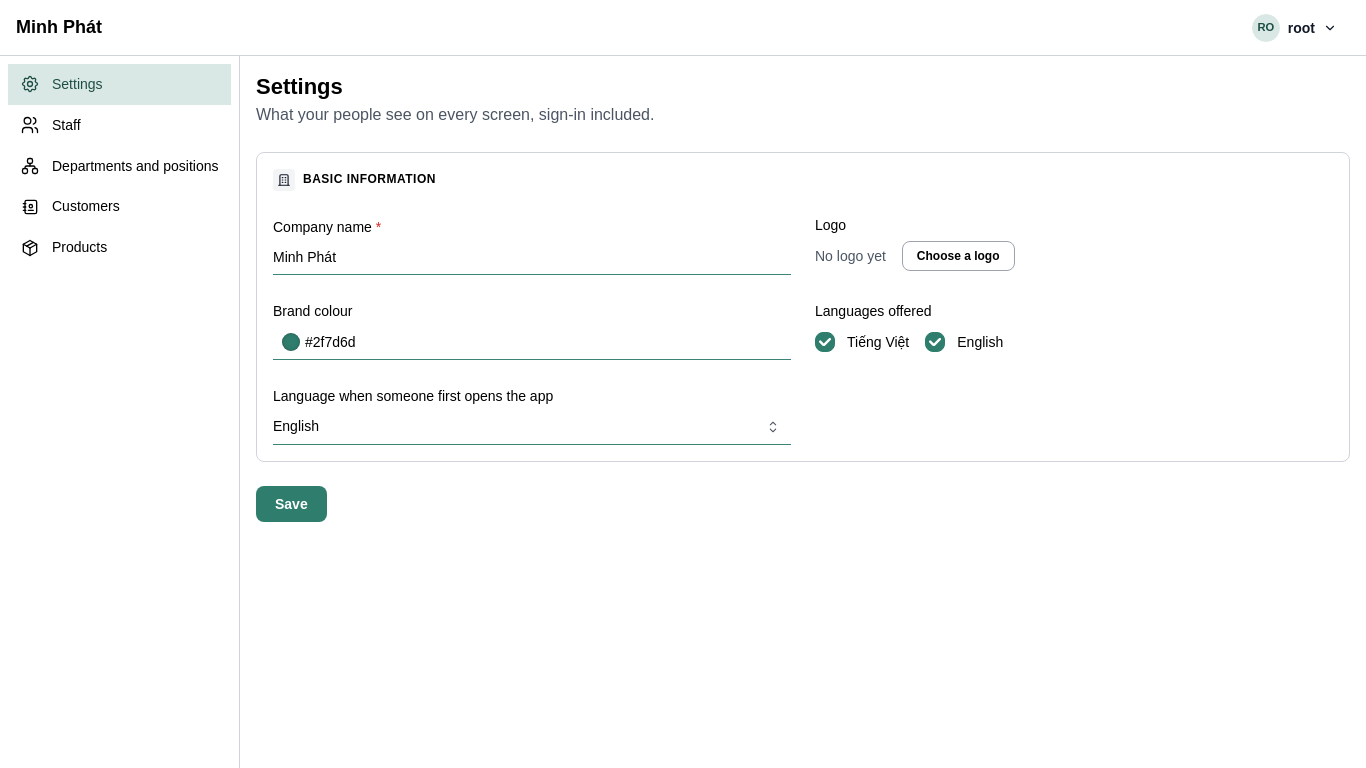
Test: the app › A failed save says so and keeps what was typed
Replace the text in the field labelled "Company name *" with "Typed and kept" at (532, 257), box [273,239,791,275]
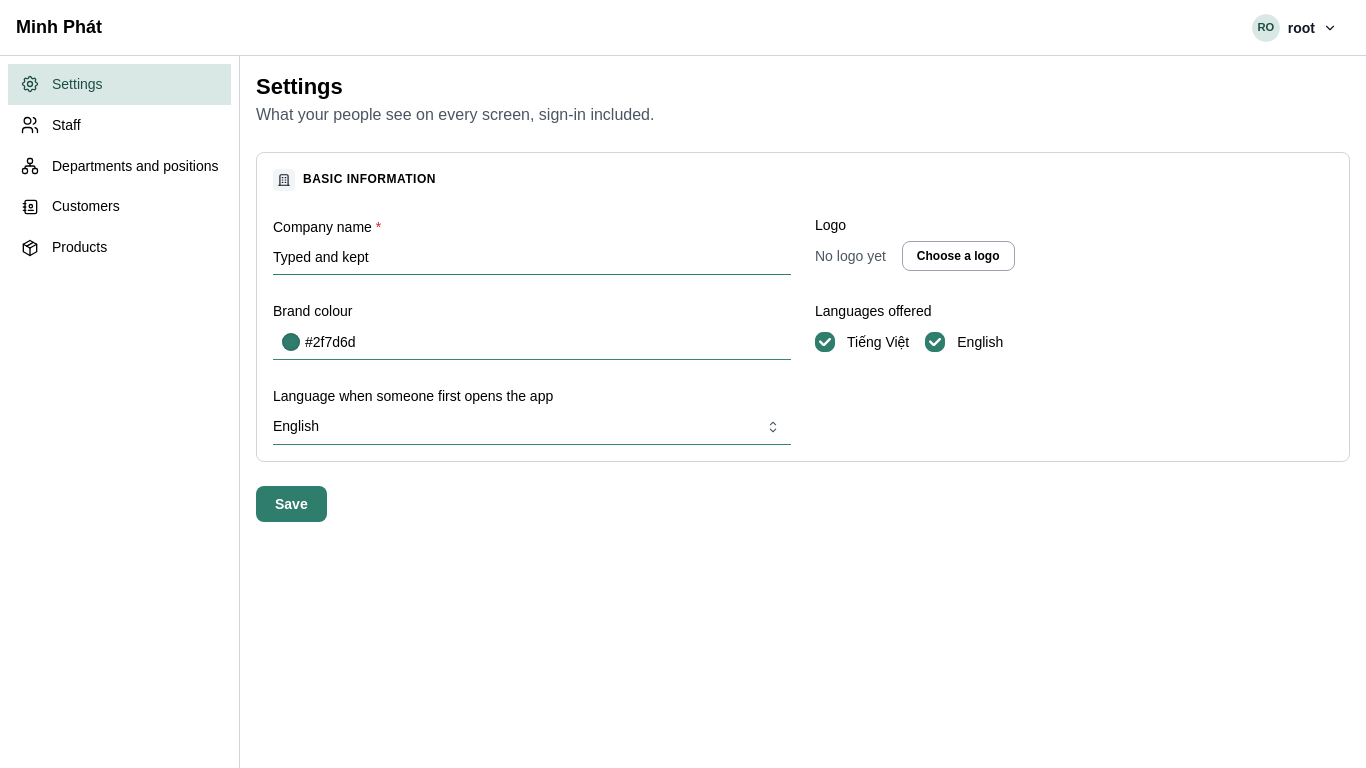
Click the button "Save" at (291, 504), box [256,486,327,522]
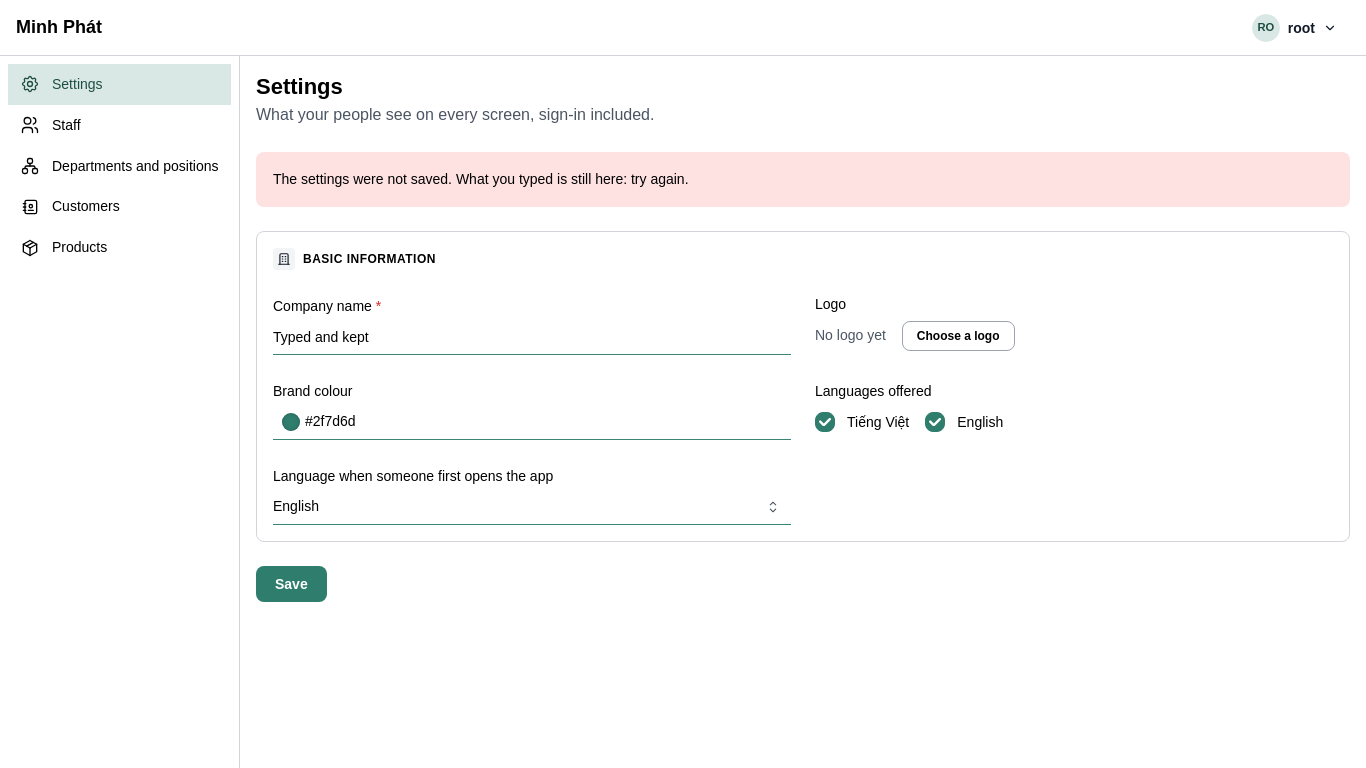
Expected: the message shows "were not saved", [273,171,688,187]
